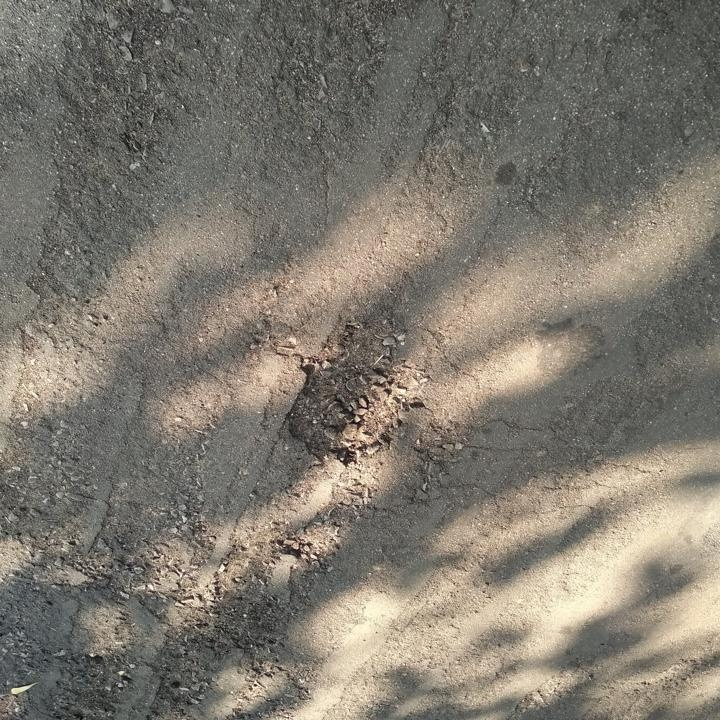pothole: (277, 322, 429, 460)
